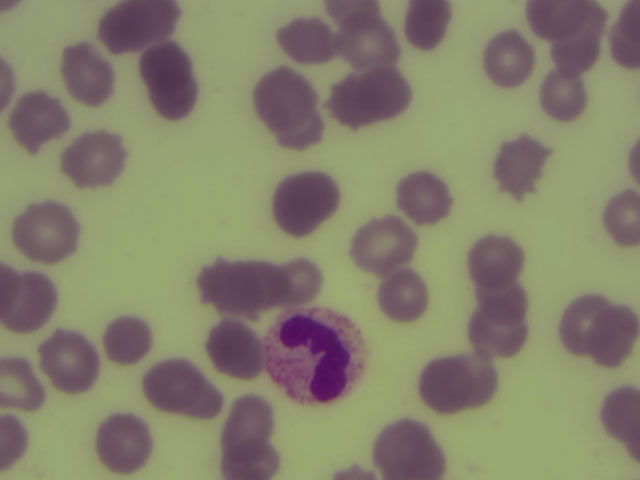RBC: (9, 197, 88, 265), (342, 216, 421, 275), (96, 1, 182, 52), (273, 171, 339, 236), (38, 325, 101, 391), (576, 3, 640, 66), (94, 413, 160, 472), (55, 39, 117, 101), (579, 305, 640, 367), (491, 137, 550, 200), (65, 132, 129, 188), (7, 90, 71, 146), (262, 253, 326, 309), (197, 255, 261, 311), (205, 318, 269, 374), (272, 255, 336, 311), (372, 267, 436, 323), (556, 292, 620, 348), (452, 346, 516, 402), (415, 359, 479, 415), (220, 423, 284, 479), (213, 394, 277, 450), (172, 371, 236, 427), (6, 272, 70, 328), (479, 32, 543, 88), (92, 309, 156, 365), (394, 170, 458, 226), (250, 70, 314, 126), (135, 31, 199, 87), (275, 15, 339, 71), (284, 96, 348, 152), (354, 60, 418, 116), (326, 71, 390, 127), (468, 310, 532, 366), (467, 259, 531, 315), (465, 230, 529, 286), (547, 30, 611, 86), (528, 67, 592, 123), (410, 424, 474, 480), (369, 413, 433, 469), (591, 387, 640, 460), (398, 1, 462, 56), (332, 1, 396, 56), (526, 1, 590, 56), (142, 353, 203, 410), (143, 70, 209, 116), (596, 189, 640, 246), (1, 358, 45, 414), (1, 413, 36, 467), (331, 455, 378, 480), (1, 264, 22, 316), (625, 140, 640, 185)
WBC: (270, 307, 372, 410)
